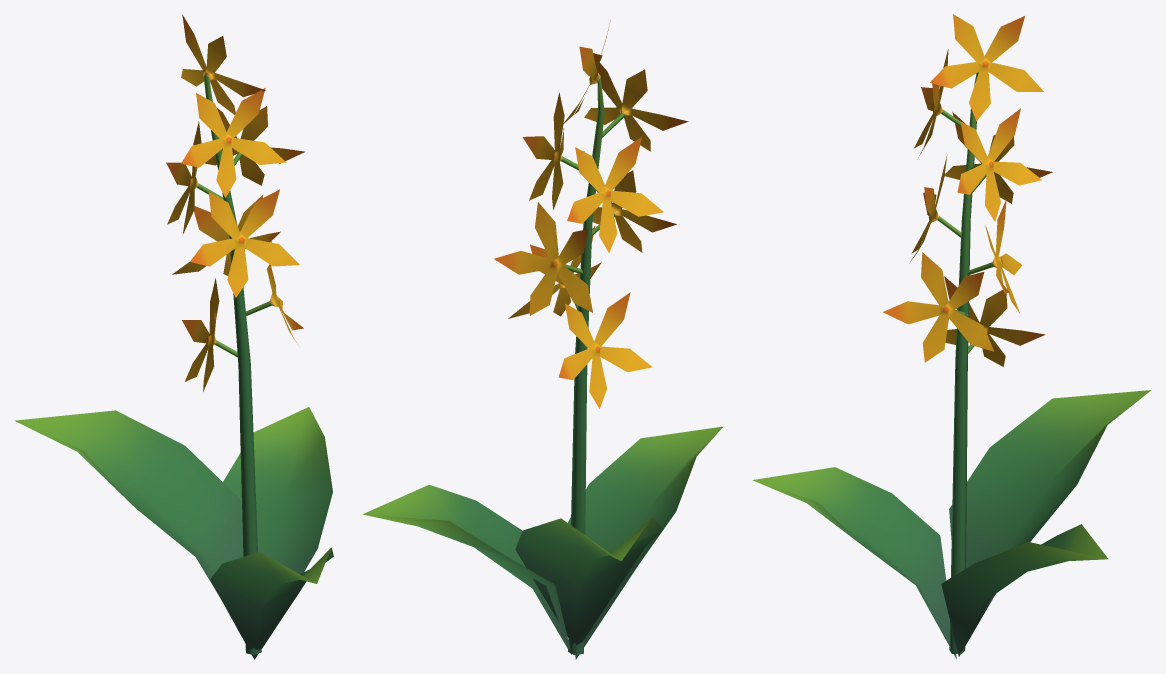
The model's file is flower16.glb.
The picture shows the model from 3 angles, left to right: view 1: azimuth 30°, elevation 25°; view 2: azimuth 150°, elevation 25°; view 3: azimuth 270°, elevation 25°; orthographic projection. The views are drawn at different scales.
Visible parts, largest first — view 1: Flower.022; view 2: Flower.022; view 3: Flower.022.
Boxes of the visible parts, x1,y1,x2,y2 form: Flower.022: (14, 14, 333, 659); Flower.022: (362, 22, 723, 659); Flower.022: (752, 14, 1151, 659).
Bounding box in the file's own units: 1.63 × 3.61 × 2.08.
Materials: 1 (1 with a texture image).
